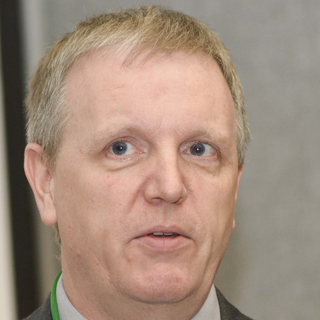eye: (98, 135, 144, 162), (177, 138, 223, 164)
